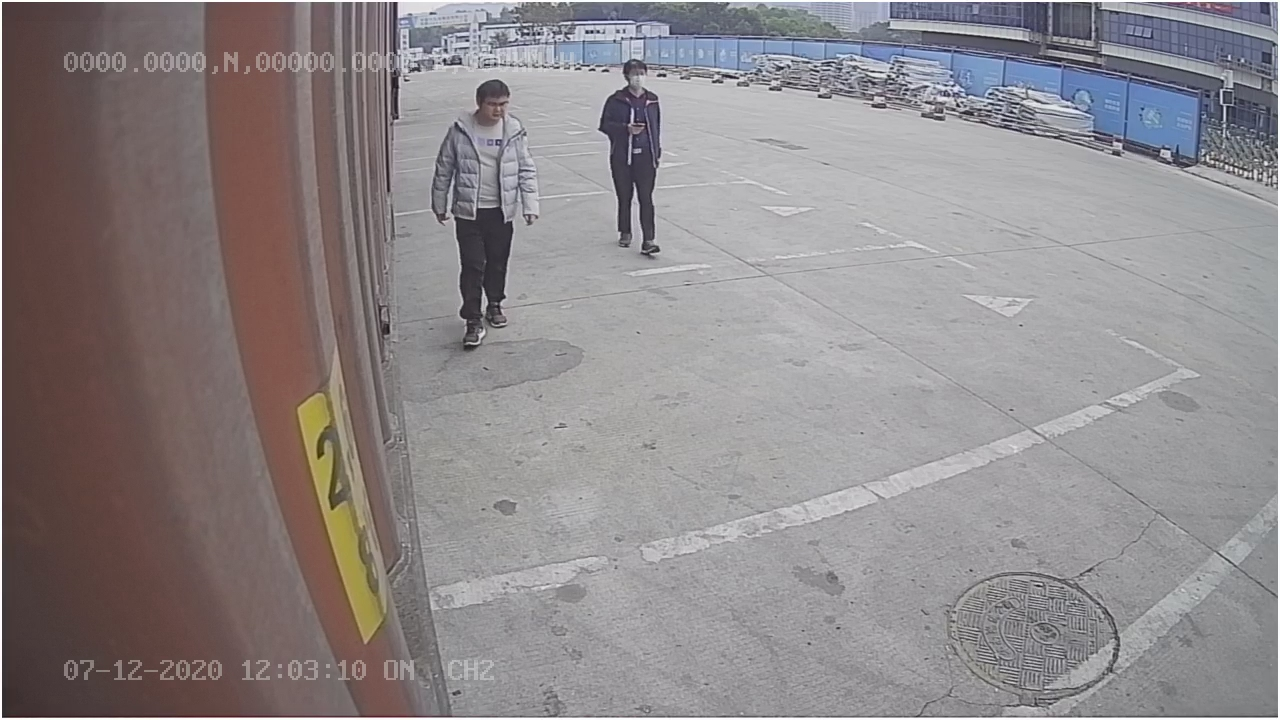person: (433, 80, 541, 351)
